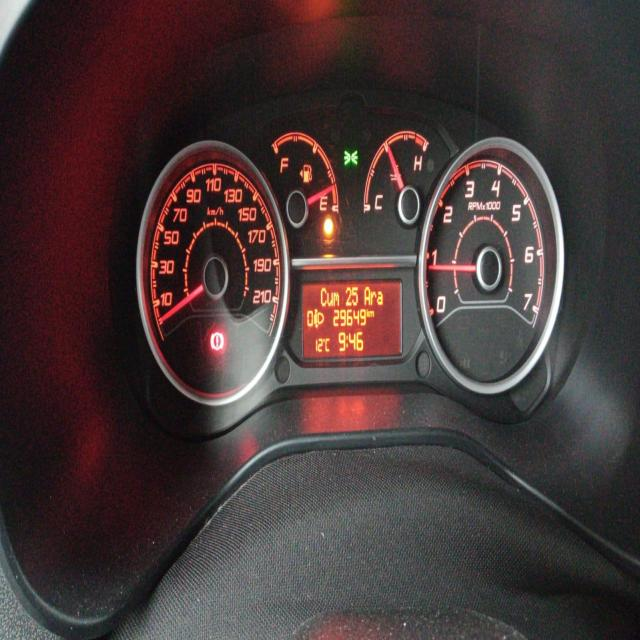odometer: (300, 278, 402, 360)
